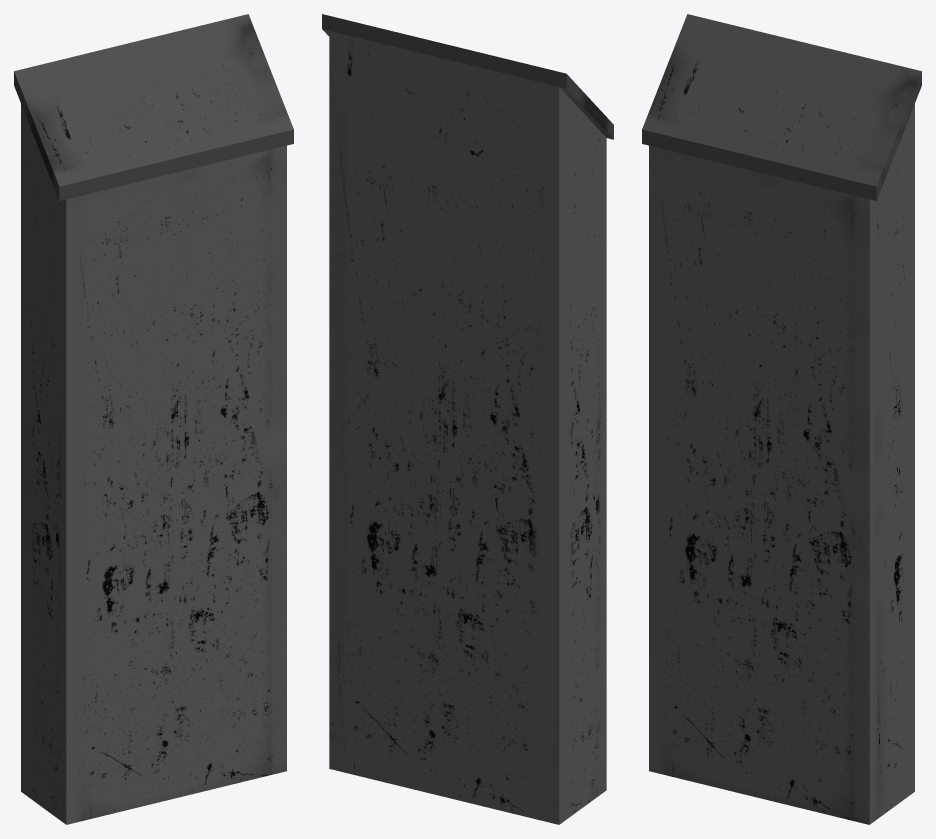
Rendered from Base_Ground_1x3_Ramp_V1.fbx.
3 renders of one model, left to right at view 1: azimuth 30°, elevation 25°; view 2: azimuth 150°, elevation 25°; view 3: azimuth 330°, elevation 25°, orthographic. The views are drawn at different scales.
Visible parts, largest first — view 1: Base Ground 1x3 Ramp V1; view 2: Base Ground 1x3 Ramp V1; view 3: Base Ground 1x3 Ramp V1.
Part boxes in pixels (x1,y1,x2,y2): Base Ground 1x3 Ramp V1: [14, 14, 293, 824]; Base Ground 1x3 Ramp V1: [322, 14, 613, 824]; Base Ground 1x3 Ramp V1: [642, 14, 921, 824].
Bounding box in the file's own units: 298 × 878 × 100.
